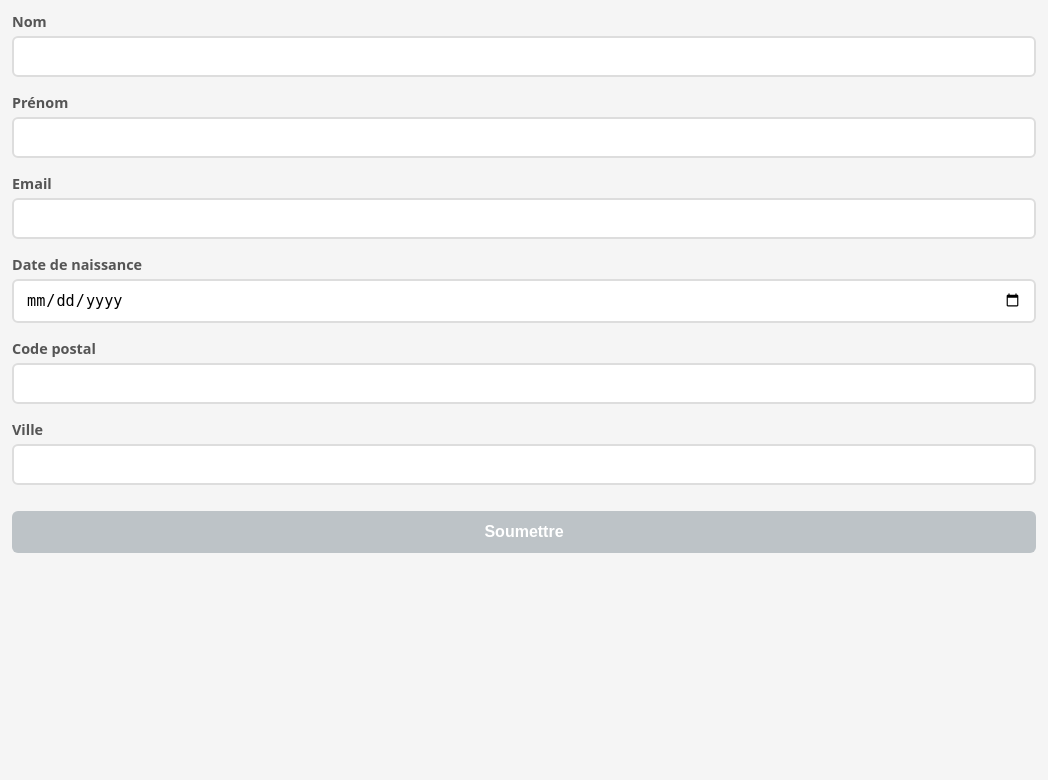
UserForm - Tests d'intégration › Soumission réussie - API 201 › le bouton doit redevenir désactivé après soumission
In the field labelled "Nom": (524, 56) [12,36,1036,77], type "Dupont"
In the field labelled "Prénom": (524, 138) [12,117,1036,158], type "Jean"
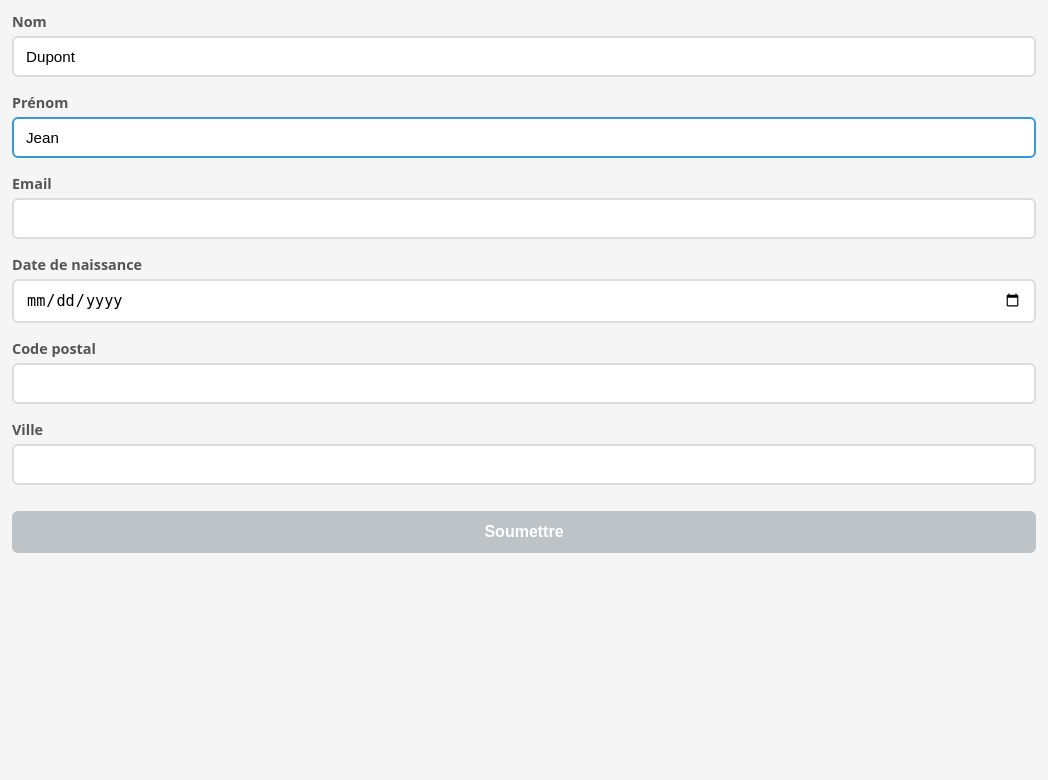
In the field labelled "Email": (524, 218) [12,198,1036,239], type "jean@example.com"
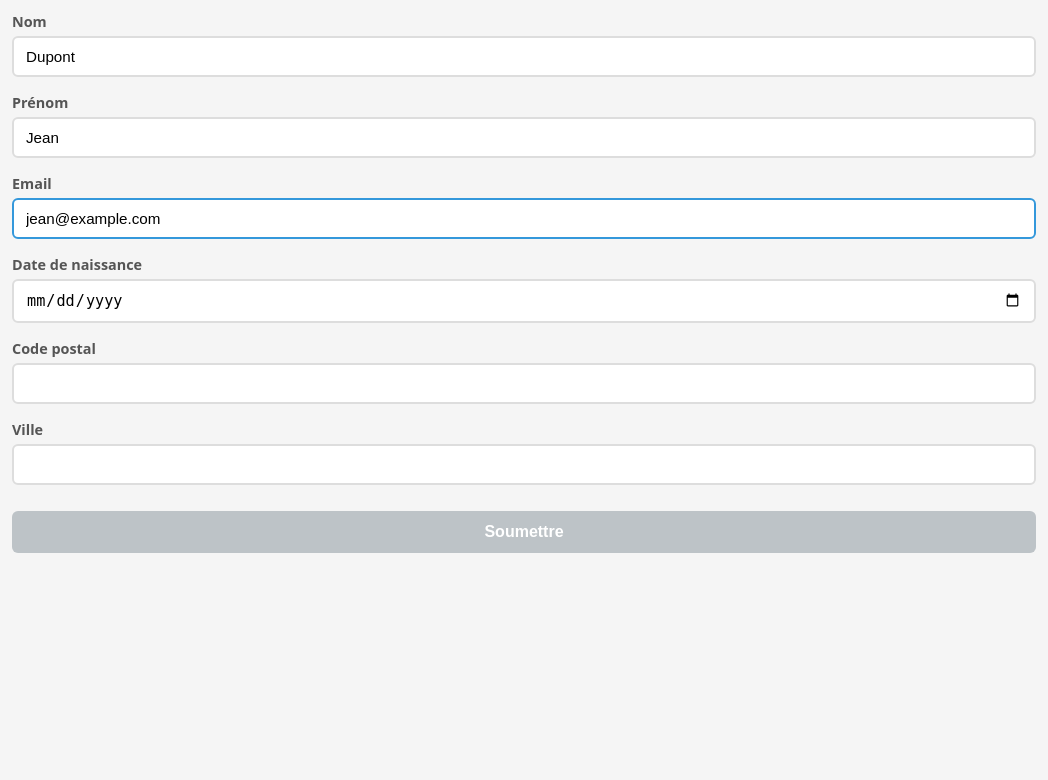
In the date field labelled "Date de naissance": (524, 301) [12,279,1036,323], type "1990-05-15"
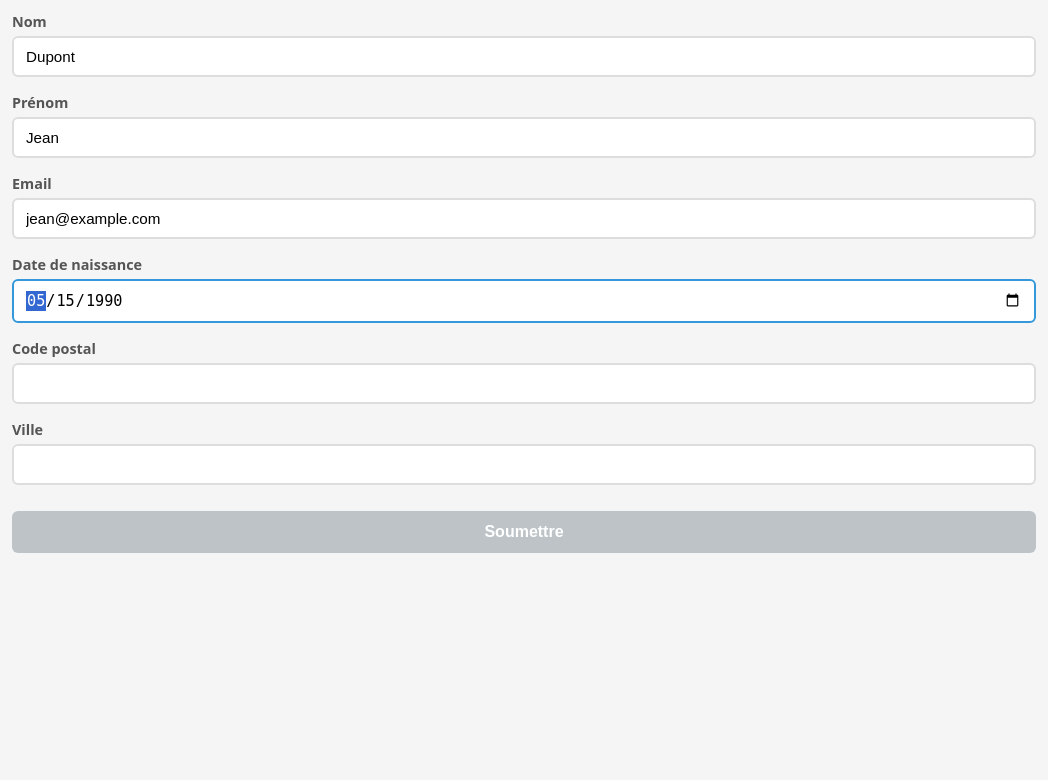
In the field labelled "Code postal": (524, 384) [12,363,1036,404], type "75001"
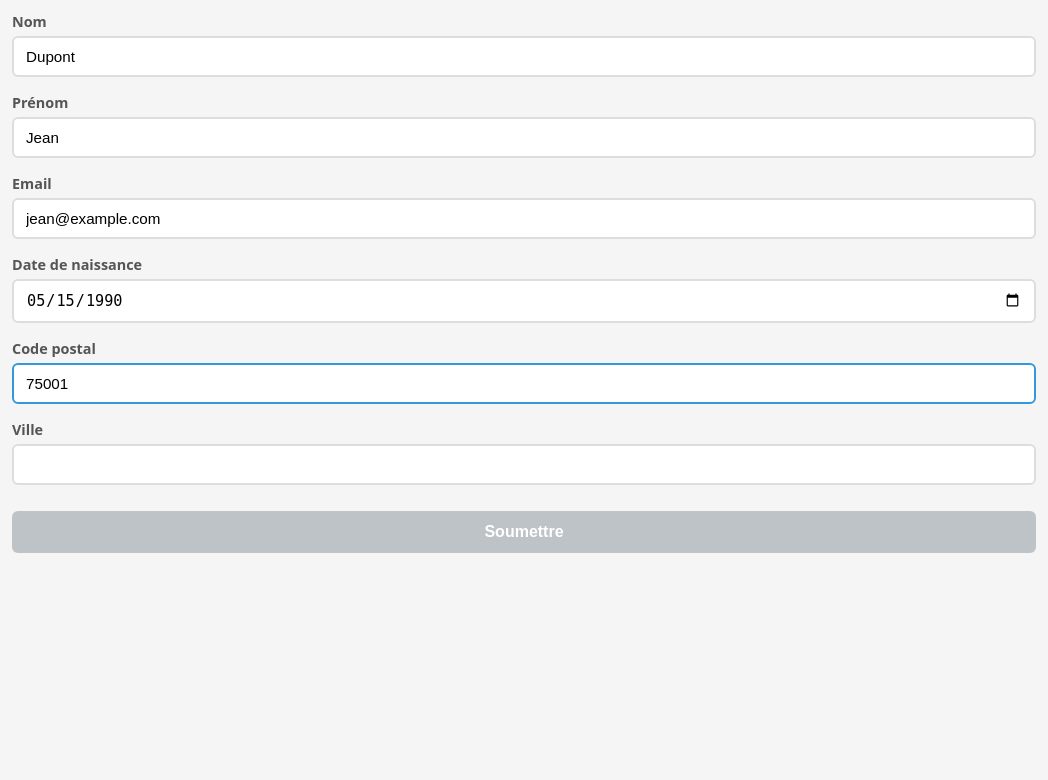
In the field labelled "Ville": (524, 464) [12,444,1036,485], type "Paris"
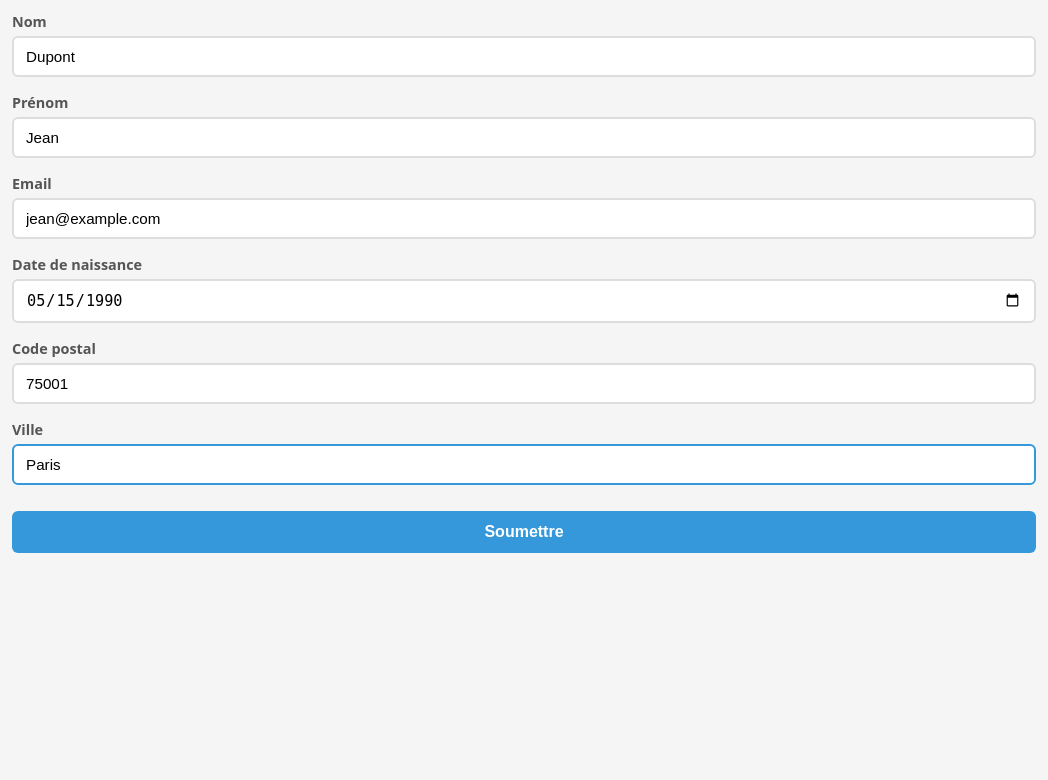
Click the button "Soumettre": (524, 532) [12,511,1036,553]
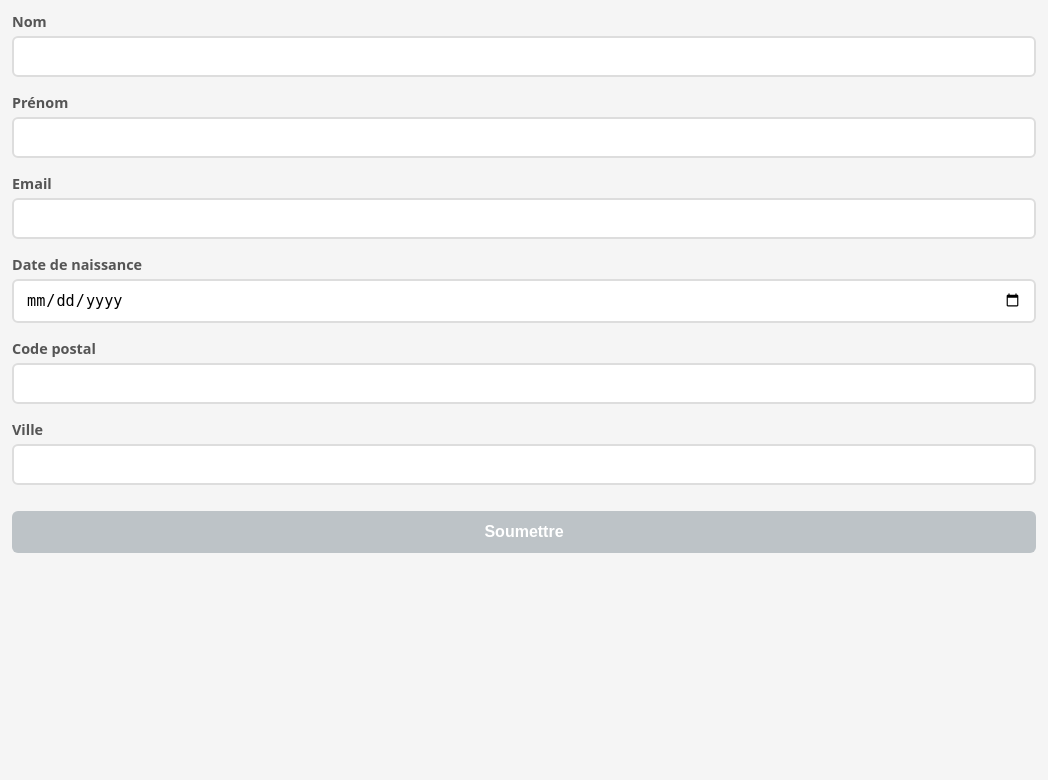
Now the button "Soumettre" is disabled, box [12,511,1036,553]
